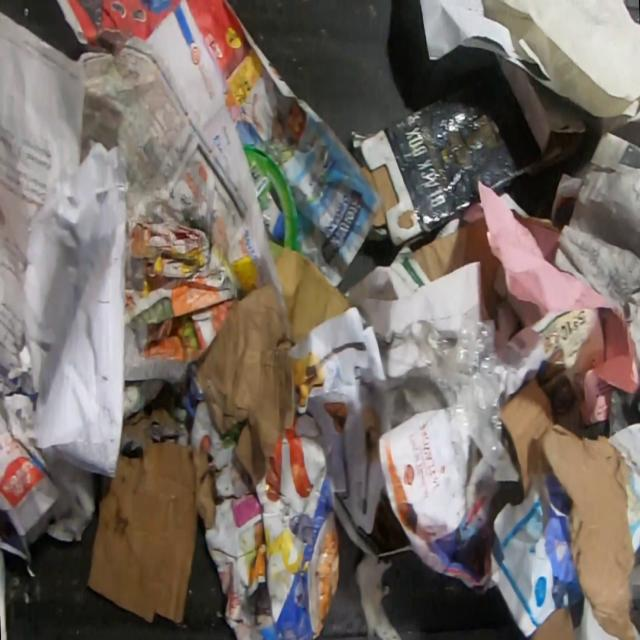cardboard: (350, 54, 587, 249), (190, 400, 342, 640), (84, 392, 216, 627), (533, 421, 640, 640), (193, 277, 298, 486), (408, 217, 503, 319), (274, 246, 352, 343), (501, 376, 556, 500), (527, 606, 577, 640), (510, 208, 561, 234)
rigid_plastic: (241, 141, 300, 252)
soft_plastic: (402, 310, 527, 464)
